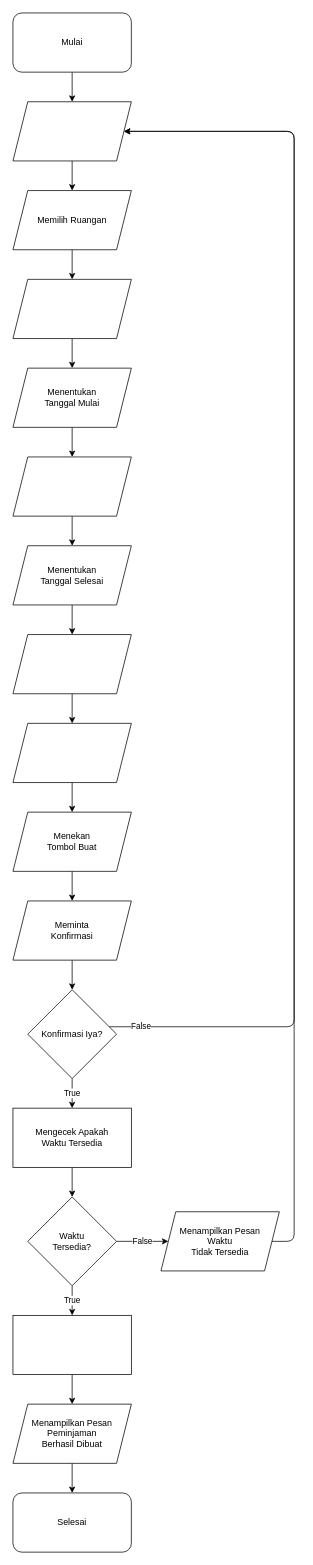
The diagram is 313 pixels wide and 1565 high, and some of its shapes have lost their labels. Each missing label, with the centre of its shape:
Memasukkan Keterangan: pixel 71 753
Memasukkan Nama Peminjam: pixel 71 309
Menampilkan Halaman Manajemen Peminjaman: pixel 71 131
Menentukan Jam Mulai: pixel 71 486
Menentukan Jam Selesai: pixel 71 664
Menyimpan Pembuatan Peminjaman di Database: pixel 71 1345
